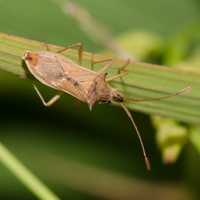insect: (22, 43, 191, 170)
